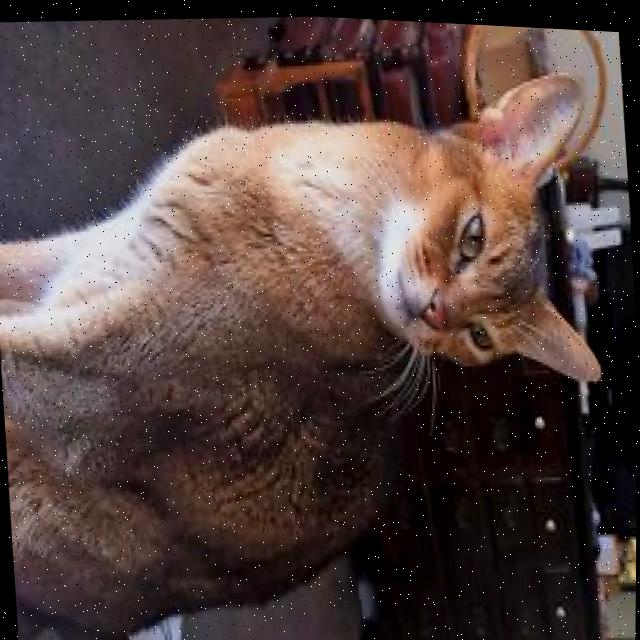Abyssinian: (0, 32, 636, 640)
